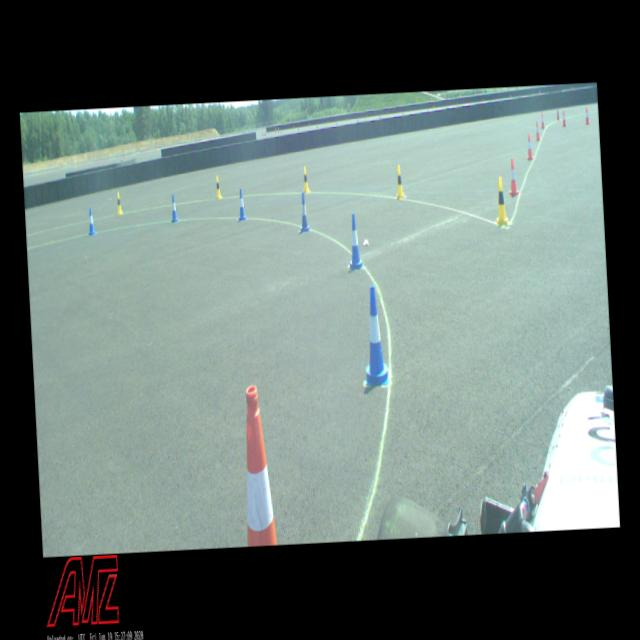blue_cone: (360, 284, 390, 386), (346, 212, 364, 270), (298, 192, 310, 234), (237, 188, 247, 221), (170, 194, 179, 222), (88, 207, 96, 236)
large_orange_cone: (240, 384, 278, 546)
orange_cone: (508, 158, 520, 196), (526, 134, 534, 161), (535, 121, 541, 141), (584, 106, 590, 125), (540, 112, 546, 130), (562, 110, 568, 128)
yellow_cone: (494, 176, 508, 225), (395, 165, 406, 199), (302, 167, 310, 192), (116, 192, 123, 215), (215, 176, 222, 198)
